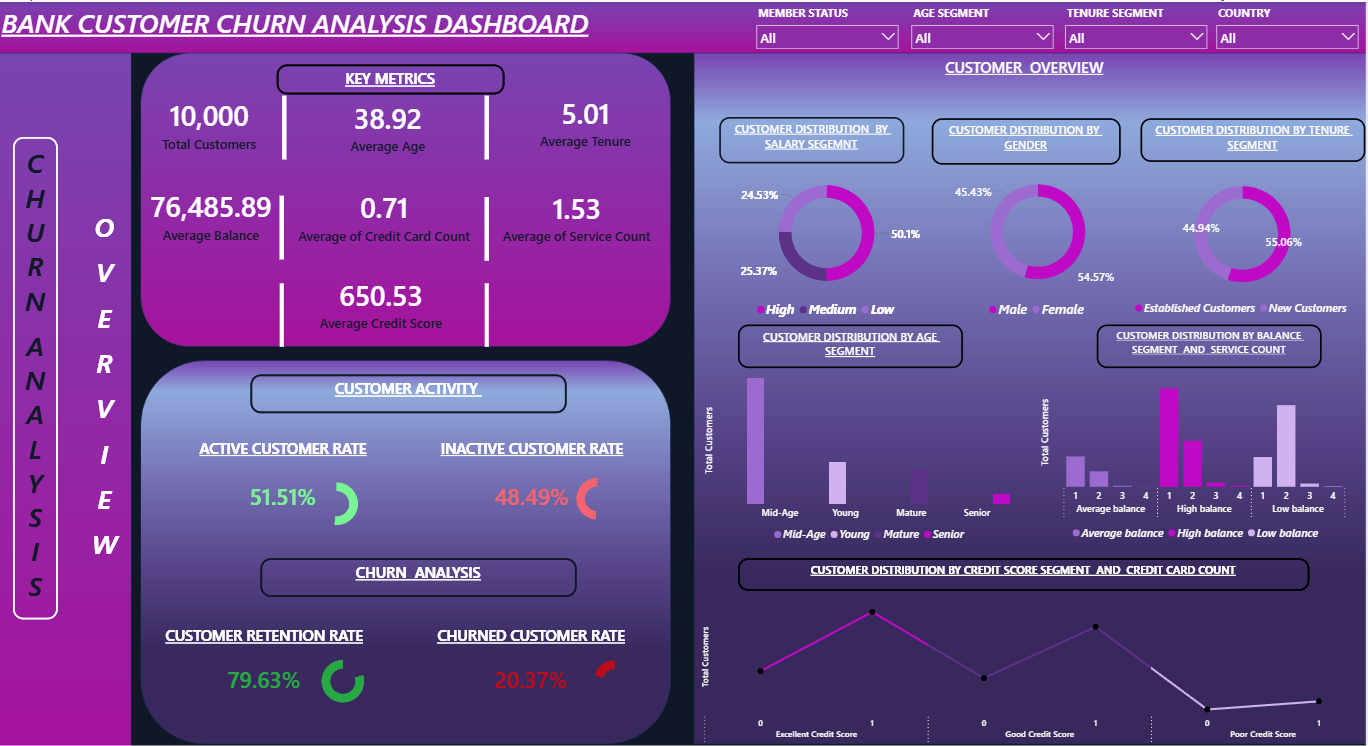

This screenshot's page, from the dashboard's own definition file:
{"tool":"powerbi","page":{"name":"Overview ","canvas":[1980,1080],"ordinal":0},"visuals":[{"type":"textbox","box":[0,0,868.6,76],"z":0},{"type":"textbox","box":[1351.8,168.3,273.3,67],"z":1000},{"type":"textbox","box":[365.6,539.3,457.8,56.1],"z":3000},{"type":"textbox","box":[365.6,539.3,457.8,56.1],"z":4000},{"type":"donutChart","title":"CUSTOMER COUNT BY SALARY SEGMENT","fields":{"Y":["CountNonNull(Bank_Churn_Cleaned.CustomerID)"],"Category":["Bank_Churn_Cleaned.Gender"]},"box":[1369.9,233.4,271.4,233.4],"z":5000},{"type":"textbox","box":[380,805.3,457.8,56.1],"z":6000},{"type":"textbox","box":[380,805.3,457.8,56.1],"z":7000},{"type":"textbox","box":[1281.2,76,409,56.1],"z":8000},{"type":"textbox","box":[1654,168.3,325.7,63.3],"z":10000},{"type":"textbox","box":[1071.3,466.9,325.7,63.3],"z":11000},{"type":"textbox","box":[1071.3,805.3,827,47.1],"z":14000},{"type":"textbox","box":[1071.3,805.3,827,47.1],"z":15000},{"type":"textbox","box":[403.6,90.5,329.4,43.4],"z":16000},{"type":"textbox","box":[403.6,90.5,329.4,43.4],"z":17000},{"type":"slicer","fields":{"Values":["Bank_Churn_Cleaned.Age segments"]},"box":[1534.6,0,226.2,70.6],"z":18000},{"type":"textbox","box":[21.9,195.4,65.1,698.5],"z":20000},{"type":"textbox","box":[21.9,195.4,65.1,698.5],"z":21000},{"type":"textbox","box":[1590.7,466.9,325.7,63.3],"z":22000},{"type":"donutChart","fields":{"Category":["Bank_Churn_Cleaned.Tenure segments"],"Y":["CountNonNull(Bank_Churn_Cleaned.CustomerID)"]},"box":[1623.3,242.5,356.5,219],"z":25000},{"type":"slicer","fields":{"Values":["Bank_Churn_Cleaned.Age segments"]},"box":[1312,0,226.2,70.6],"z":26000},{"type":"actionButton","box":[1.8,137.5,101.3,783.6],"z":28000},{"type":"actionButton","box":[1.8,137.5,101.3,783.6],"z":29000},{"type":"textbox","box":[1044.2,166.5,267.8,67],"z":30000},{"type":"slicer","fields":{"Values":["Bank_Churn_Cleaned.Member_Status"]},"box":[1087.6,0,226.2,70.6],"z":31000},{"type":"card","title":"TOTAL CUSTOMERS","fields":{"Values":["Bank_Churn_Cleaned.Total Customers"]},"box":[208.1,119.4,195.4,114],"z":33000},{"type":"card","title":"TOTAL CUSTOMERS","fields":{"Values":["Avg(Bank_Churn_Cleaned.Credit_Score)"]},"box":[447,365.6,215.3,141.2],"z":35000},{"type":"card","title":"TOTAL CUSTOMERS","fields":{"Values":["Avg(Bank_Churn_Cleaned.Balance)"]},"box":[193.6,251.5,229.8,114],"z":37000},{"type":"card","title":"TOTAL CUSTOMERS","fields":{"Values":["Avg(Bank_Churn_Cleaned.Age)"]},"box":[466.9,123.1,195.4,114],"z":39000},{"type":"donutChart","title":"CUSTOMER COUNT BY SALARY SEGMENT","fields":{"Y":["CountNonNull(Bank_Churn_Cleaned.CustomerID)"],"Category":["Bank_Churn_Cleaned.Salary_Segment"]},"box":[1051.4,236.9,296.8,229.8],"z":41000},{"type":"donutChart","title":"CUSTOMER COUNT BY SALARY SEGMENT","fields":{"Y":["CountNonNull(Bank_Churn_Cleaned.CustomerID)"],"Category":["Bank_Churn_Cleaned.Salary_Segment"]},"box":[1051.4,236.9,296.8,229.8],"z":42000},{"type":"card","title":"TOTAL CUSTOMERS","fields":{"Values":["Avg(Bank_Churn_Cleaned.Credit_Card_Count)"]},"box":[423.5,246.1,271.4,126.7],"z":43000},{"type":"card","title":"TOTAL CUSTOMERS","fields":{"Values":["Avg(Bank_Churn_Cleaned.Service_Count)"]},"box":[707.6,246.1,260.6,128.5],"z":45000},{"type":"card","title":"TOTAL CUSTOMERS","fields":{"Values":["Avg(Bank_Churn_Cleaned.Tenure_in_years)"]},"box":[752.8,106.8,195.4,132.1],"z":47000},{"type":"donutChart","fields":{"Y":["Bank_Churn_Cleaned.Active Customer Rate","Bank_Churn_Cleaned.Inactive Customer Rate"]},"box":[825.2,673.2,85.1,92.3],"z":49000},{"type":"donutChart","fields":{"Y":["Bank_Churn_Cleaned.Active Customer Rate","Bank_Churn_Cleaned.Inactive Customer Rate"]},"box":[825.2,673.2,85.1,92.3],"z":50000},{"type":"donutChart","fields":{"Y":["Bank_Churn_Cleaned.Churn Rate","Bank_Churn_Cleaned.Retention Rate"]},"box":[456,937.4,86.9,92.3],"z":51000},{"type":"donutChart","fields":{"Y":["Bank_Churn_Cleaned.Churn Rate","Bank_Churn_Cleaned.Retention Rate"]},"box":[456,937.4,86.9,92.3],"z":52000},{"type":"donutChart","fields":{"Y":["Bank_Churn_Cleaned.Retention Rate","Bank_Churn_Cleaned.Churn Rate"]},"box":[850.5,937.4,85.1,92.3],"z":53000},{"type":"donutChart","fields":{"Y":["Bank_Churn_Cleaned.Retention Rate","Bank_Churn_Cleaned.Churn Rate"]},"box":[850.5,937.4,85.1,92.3],"z":54000},{"type":"shape","box":[365.6,280.5,90.5,92.3],"z":55000},{"type":"shape","box":[365.6,280.5,90.5,92.3],"z":56000},{"type":"shape","box":[662.3,135.7,90.5,92.3],"z":57000},{"type":"shape","box":[662.3,135.7,90.5,92.3],"z":58000},{"type":"shape","box":[662.3,282.3,90.5,92.3],"z":59000},{"type":"shape","box":[662.3,282.3,90.5,92.3],"z":60000},{"type":"shape","box":[369.2,135.7,90.5,92.3],"z":61000},{"type":"shape","box":[369.2,135.7,90.5,92.3],"z":62000},{"type":"shape","box":[365.6,407.2,90.5,92.3],"z":63000},{"type":"shape","box":[662.3,407.2,90.5,92.3],"z":65000},{"type":"card","title":"ACTIVE CUSTOMER RATE","fields":{"Values":["Bank_Churn_Cleaned.Active Customer Rate"]},"box":[229.8,626.1,365.6,146.6],"z":67000},{"type":"card","title":"ACTIVE CUSTOMER RATE","fields":{"Values":["Bank_Churn_Cleaned.Active Customer Rate"]},"box":[229.8,626.1,365.6,146.6],"z":68000},{"type":"card","title":"CHURNED CUSTOMER RATE","fields":{"Values":["Bank_Churn_Cleaned.Churn Rate"]},"box":[608,897.6,327.5,132.1],"z":69000},{"type":"card","title":"CHURNED CUSTOMER RATE","fields":{"Values":["Bank_Churn_Cleaned.Churn Rate"]},"box":[608,897.6,327.5,132.1],"z":70000},{"type":"card","title":"CUSTOMER RETENTION RATE","fields":{"Values":["Bank_Churn_Cleaned.Retention Rate"]},"box":[215.3,897.6,340.2,132.1],"z":71000},{"type":"card","title":"CUSTOMER RETENTION RATE","fields":{"Values":["Bank_Churn_Cleaned.Retention Rate"]},"box":[215.3,897.6,340.2,132.1],"z":72000},{"type":"card","title":"INACTIVE CUSTOMER RATE","fields":{"Values":["Bank_Churn_Cleaned.Inactive Customer Rate"]},"box":[608,626.1,330,146],"z":73000},{"type":"card","title":"INACTIVE CUSTOMER RATE","fields":{"Values":["Bank_Churn_Cleaned.Inactive Customer Rate"]},"box":[608,626.1,330,146],"z":74000},{"type":"donutChart","fields":{"Y":["Bank_Churn_Cleaned.Active Customer Rate","Bank_Churn_Cleaned.Inactive Customer Rate"]},"box":[447,680.4,86.9,92.3],"z":75000},{"type":"donutChart","fields":{"Y":["Bank_Churn_Cleaned.Active Customer Rate","Bank_Churn_Cleaned.Inactive Customer Rate"]},"box":[447,680.4,86.9,92.3],"z":76000},{"type":"clusteredColumnChart","fields":{"Category":["Bank_Churn_Cleaned.Age segments"],"Y":["CountNonNull(Bank_Churn_Cleaned.CustomerID)"],"Series":["Bank_Churn_Cleaned.Age segments"]},"box":[1020.6,530.2,485,258.8],"z":77000},{"type":"columnChart","fields":{"Category":["Bank_Churn_Cleaned.Balance  segments","Bank_Churn_Cleaned.Service_Count"],"Y":["CountNonNull(Bank_Churn_Cleaned.CustomerID)"],"Series":["Bank_Churn_Cleaned.Balance  segments"]},"box":[1505.6,530.2,459.7,258.8],"z":78000},{"type":"lineChart","fields":{"Category":["Bank_Churn_Cleaned.Credit Score  segments","Bank_Churn_Cleaned.Credit_Card_Count"],"Y":["CountNonNull(Bank_Churn_Cleaned.CustomerID)"]},"box":[1015.2,852.4,964.5,228],"z":80000},{"type":"textbox","box":[114,215.3,79.6,760.1],"z":82000},{"type":"textbox","box":[114,215.3,79.6,760.1],"z":83000},{"type":"slicer","fields":{"Values":["Bank_Churn_Cleaned.Country"]},"box":[1753.6,0,226.2,76],"z":84000}]}

Visuals, with their boxes in screenshot pixels (x1, y1, x2, y2), scaled from the page's 1980x1080 canvas onto the 1368x746 screenshot:
textbox: bbox(0, 0, 600, 52)
textbox: bbox(934, 116, 1123, 163)
textbox: bbox(253, 373, 569, 411)
textbox: bbox(253, 373, 569, 411)
"CUSTOMER COUNT BY SALARY SEGMENT" donutChart: bbox(946, 161, 1134, 322)
textbox: bbox(263, 556, 579, 595)
textbox: bbox(263, 556, 579, 595)
textbox: bbox(885, 52, 1168, 91)
textbox: bbox(1143, 116, 1367, 160)
textbox: bbox(740, 323, 965, 366)
textbox: bbox(740, 556, 1312, 589)
textbox: bbox(740, 556, 1312, 589)
textbox: bbox(279, 63, 506, 92)
textbox: bbox(279, 63, 506, 92)
slicer - Bank_Churn_Cleaned.Age segments: bbox(1060, 0, 1217, 49)
textbox: bbox(15, 135, 60, 617)
textbox: bbox(15, 135, 60, 617)
textbox: bbox(1099, 323, 1324, 366)
donutChart - Bank_Churn_Cleaned.Tenure segments x CountNonNull(Bank_Churn_Cleaned.CustomerID): bbox(1122, 168, 1367, 319)
slicer - Bank_Churn_Cleaned.Age segments: bbox(906, 0, 1063, 49)
actionButton: bbox(1, 95, 71, 636)
actionButton: bbox(1, 95, 71, 636)
textbox: bbox(721, 115, 906, 161)
slicer - Bank_Churn_Cleaned.Member_Status: bbox(751, 0, 908, 49)
"TOTAL CUSTOMERS" card: bbox(144, 82, 279, 161)
"TOTAL CUSTOMERS" card: bbox(309, 253, 458, 350)
"TOTAL CUSTOMERS" card: bbox(134, 174, 293, 252)
"TOTAL CUSTOMERS" card: bbox(323, 85, 458, 164)
"CUSTOMER COUNT BY SALARY SEGMENT" donutChart: bbox(726, 164, 931, 322)
"CUSTOMER COUNT BY SALARY SEGMENT" donutChart: bbox(726, 164, 931, 322)
"TOTAL CUSTOMERS" card: bbox(293, 170, 480, 258)
"TOTAL CUSTOMERS" card: bbox(489, 170, 669, 259)
"TOTAL CUSTOMERS" card: bbox(520, 74, 655, 165)
donutChart - Bank_Churn_Cleaned.Active Customer Rate x Bank_Churn_Cleaned.Inactive Customer Rate: bbox(570, 465, 629, 529)
donutChart - Bank_Churn_Cleaned.Active Customer Rate x Bank_Churn_Cleaned.Inactive Customer Rate: bbox(570, 465, 629, 529)
donutChart - Bank_Churn_Cleaned.Churn Rate x Bank_Churn_Cleaned.Retention Rate: bbox(315, 648, 375, 711)
donutChart - Bank_Churn_Cleaned.Churn Rate x Bank_Churn_Cleaned.Retention Rate: bbox(315, 648, 375, 711)
donutChart - Bank_Churn_Cleaned.Retention Rate x Bank_Churn_Cleaned.Churn Rate: bbox(588, 648, 646, 711)
donutChart - Bank_Churn_Cleaned.Retention Rate x Bank_Churn_Cleaned.Churn Rate: bbox(588, 648, 646, 711)
shape: bbox(253, 194, 315, 258)
shape: bbox(253, 194, 315, 258)
shape: bbox(458, 94, 520, 157)
shape: bbox(458, 94, 520, 157)
shape: bbox(458, 195, 520, 259)
shape: bbox(458, 195, 520, 259)
shape: bbox(255, 94, 318, 157)
shape: bbox(255, 94, 318, 157)
shape: bbox(253, 281, 315, 345)
shape: bbox(458, 281, 520, 345)
"ACTIVE CUSTOMER RATE" card: bbox(159, 432, 411, 534)
"ACTIVE CUSTOMER RATE" card: bbox(159, 432, 411, 534)
"CHURNED CUSTOMER RATE" card: bbox(420, 620, 646, 711)
"CHURNED CUSTOMER RATE" card: bbox(420, 620, 646, 711)
"CUSTOMER RETENTION RATE" card: bbox(149, 620, 384, 711)
"CUSTOMER RETENTION RATE" card: bbox(149, 620, 384, 711)
"INACTIVE CUSTOMER RATE" card: bbox(420, 432, 648, 533)
"INACTIVE CUSTOMER RATE" card: bbox(420, 432, 648, 533)
donutChart - Bank_Churn_Cleaned.Active Customer Rate x Bank_Churn_Cleaned.Inactive Customer Rate: bbox(309, 470, 369, 534)
donutChart - Bank_Churn_Cleaned.Active Customer Rate x Bank_Churn_Cleaned.Inactive Customer Rate: bbox(309, 470, 369, 534)
clusteredColumnChart - Bank_Churn_Cleaned.Age segments x CountNonNull(Bank_Churn_Cleaned.CustomerID): bbox(705, 366, 1040, 545)
columnChart - Bank_Churn_Cleaned.Balance  segments x Bank_Churn_Cleaned.Service_Count: bbox(1040, 366, 1358, 545)
lineChart - Bank_Churn_Cleaned.Credit Score  segments x Bank_Churn_Cleaned.Credit_Card_Count: bbox(701, 589, 1367, 745)
textbox: bbox(79, 149, 134, 674)
textbox: bbox(79, 149, 134, 674)
slicer - Bank_Churn_Cleaned.Country: bbox(1212, 0, 1367, 52)
